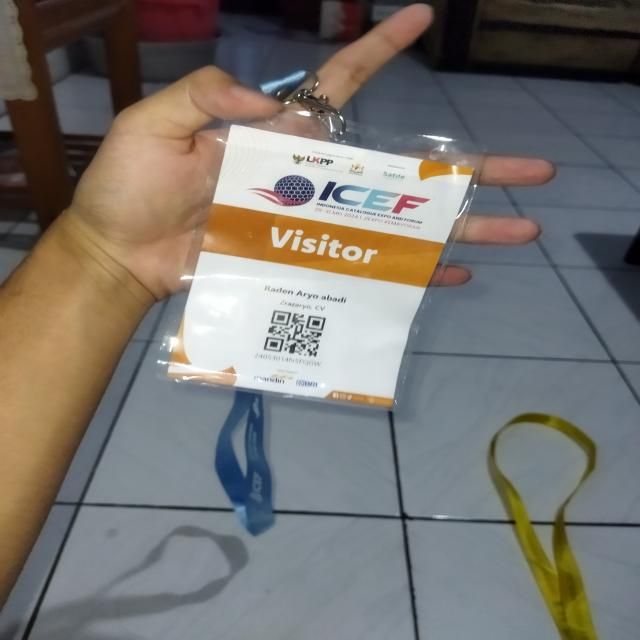ID_card: (157, 122, 480, 412)
